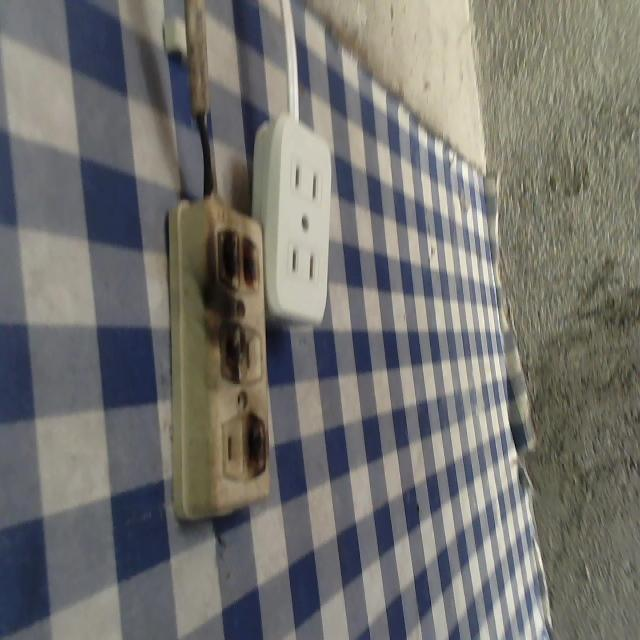-: (200, 218, 266, 302), (237, 409, 274, 482), (213, 316, 247, 388)
